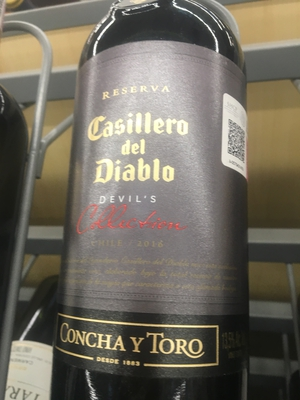casillero del diablo devils collection rojo: (54, 5, 257, 400)
